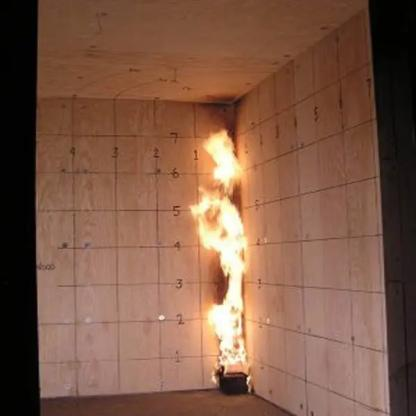fire: (185, 127, 255, 369)
